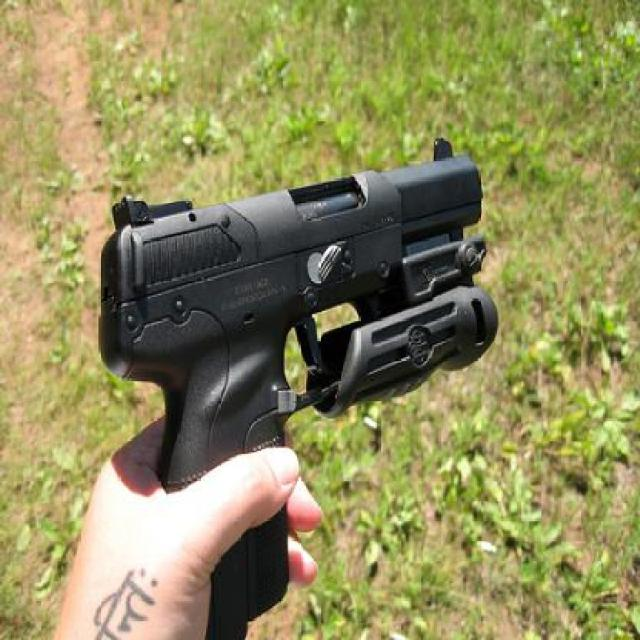guns: (98, 137, 499, 638)
